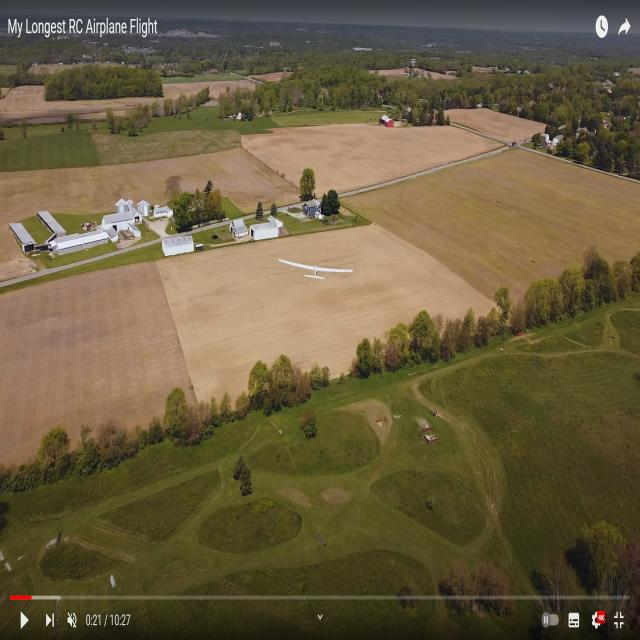iha: (313, 255, 317, 286)
